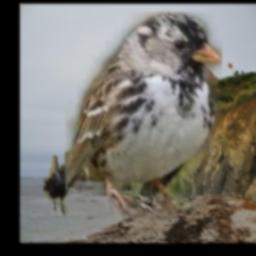Crow: (43, 164, 79, 217)
Sparrow: (65, 12, 222, 221)
